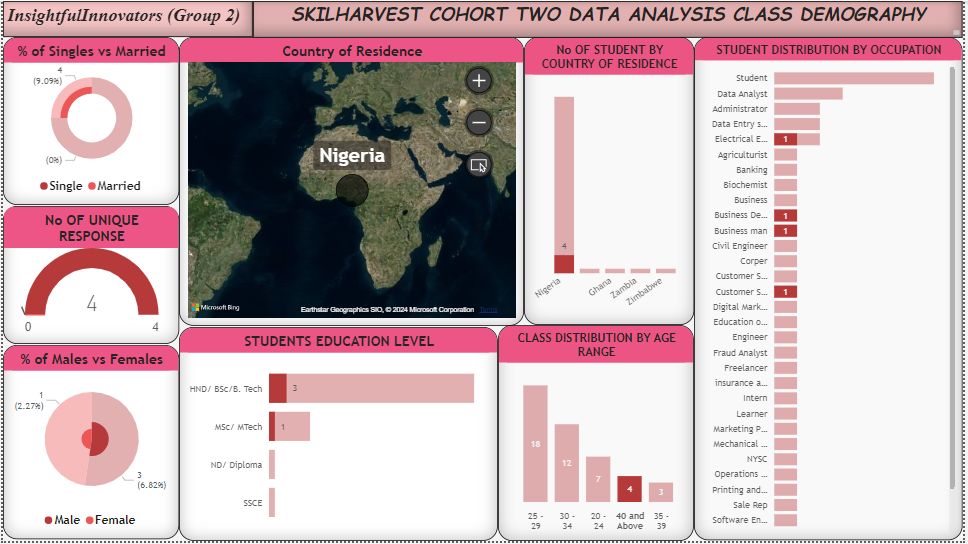

The dashboard page shown, as its layout file describes it:
{"tool":"powerbi","page":{"name":"Page 1","canvas":[1280,720],"ordinal":0},"visuals":[{"type":"map","fields":{"Category":["Form Responses 1.Country of Residence"]},"box":[234.7,48,460,385.3],"z":1000},{"type":"pieChart","title":"% of Males vs Females","fields":{"Category":["Form Responses 1.Gender"],"Y":["CountNonNull(Form Responses 1.Gender)"]},"box":[0,458.7,234.7,258.7],"z":2000},{"type":"donutChart","title":"% of Singles vs Married","fields":{"Y":["CountNonNull(Form Responses 1.Marital Status)"],"Category":["Form Responses 1.Marital Status"]},"box":[0,48,234.7,224],"z":3000},{"type":"textbox","title":"SKILHARVEST COHORT TWO DATA ANALYSIS CLASS DEMOGRAPHY","box":[333.9,0,946.1,48.5],"z":4000},{"type":"textbox","box":[0,0,333.3,48],"z":5000},{"type":"clusteredColumnChart","title":"CLASS DISTRIBUTION BY AGE RANGE","fields":{"Category":["Form Responses 1.Age Range"],"Y":["CountNonNull(Form Responses 1.Age Range)"]},"box":[660,432,261.3,288],"z":6000},{"type":"gauge","title":"No OF UNIQUE RESPONSE","fields":{"Y":["Count(Form Responses 1.Names)"],"MaxValue":["Count(Form Responses 1.Names)"]},"box":[0,273.3,234.7,184],"z":7000},{"type":"clusteredBarChart","title":"STUDENTS EDUCATION LEVEL","fields":{"Category":["Form Responses 1.Highest level of Education"],"Y":["CountNonNull(Form Responses 1.Highest level of Education)"]},"box":[234.7,434.7,425.3,285.3],"z":8000},{"type":"clusteredBarChart","title":"STUDENT DISTRIBUTION BY OCCUPATION","fields":{"Category":["Form Responses 1.Occupation"],"Y":["CountNonNull(Form Responses 1.Occupation)"]},"box":[921.8,48.5,358.2,670.7],"z":9000},{"type":"clusteredColumnChart","title":"No OF STUDENT BY COUNTRY OF RESIDENCE","fields":{"Category":["Form Responses 1.Country of Residence"],"Y":["Count(Form Responses 1.Names)"]},"box":[694.7,48,226.7,384],"z":9001}]}

Visuals, with their boxes in screenshot pixels (x1, y1, x2, y2), scaled from the page's 1280x720 canvas onto the 968x544 screenshot:
map - Form Responses 1.Country of Residence: <bbox>177, 36, 525, 327</bbox>
"% of Males vs Females" pieChart: <bbox>0, 347, 177, 542</bbox>
"% of Singles vs Married" donutChart: <bbox>0, 36, 177, 206</bbox>
"SKILHARVEST COHORT TWO DATA ANALYSIS CLASS DEMOGRAPHY" textbox: <bbox>253, 0, 967, 37</bbox>
textbox: <bbox>0, 0, 252, 36</bbox>
"CLASS DISTRIBUTION BY AGE RANGE" clusteredColumnChart: <bbox>499, 326, 697, 543</bbox>
"No OF UNIQUE RESPONSE" gauge: <bbox>0, 206, 177, 346</bbox>
"STUDENTS EDUCATION LEVEL" clusteredBarChart: <bbox>177, 328, 499, 543</bbox>
"STUDENT DISTRIBUTION BY OCCUPATION" clusteredBarChart: <bbox>697, 37, 967, 543</bbox>
"No OF STUDENT BY COUNTRY OF RESIDENCE" clusteredColumnChart: <bbox>525, 36, 697, 326</bbox>
